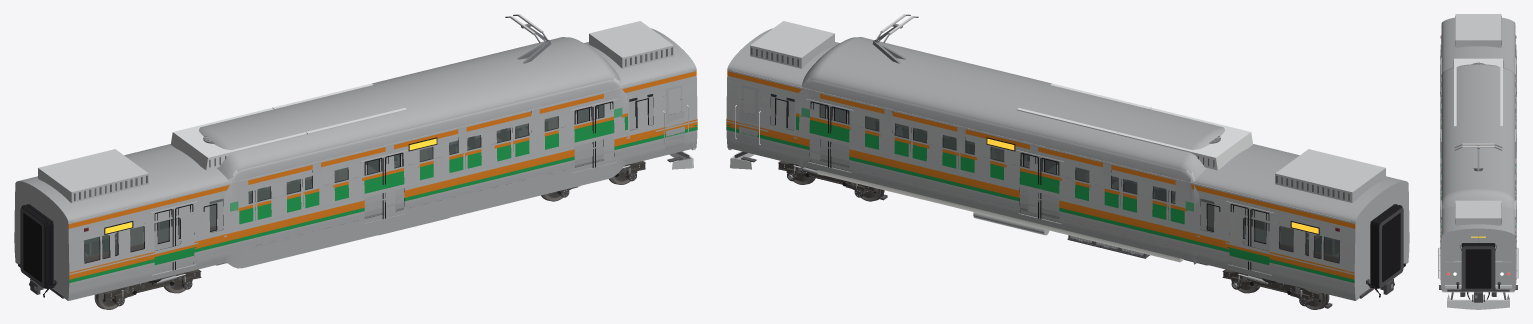
3 renders of one model, left to right at view 1: azimuth 30°, elevation 25°; view 2: azimuth 150°, elevation 25°; view 3: azimuth 270°, elevation 25°, orthographic. The views are drawn at different scales.
Visible parts, largest first — view 1: 211_green, 211_cab, 211_mid, 211_mid_panto, 211_cab_fine, 211_cab_door0_R_a, 211_cab_door1_R_a, 211_cab_door2_R_a, 211_mid_door1_R_a; view 2: 211_green, 211_cab, 211_mid, 211_mid_panto, 211_cab_fine, 211_cab_door0_L_a, 211_cab_door1_L_a, 211_cab_door2_L_a, 211_mid_door2_L_a, 211_mid_door1_L_a, 211_cab_door0_L_b; view 3: 211_green, 211_mid, 211_cab, 211_mid_panto, 211_mid_fine, 211_cab_fine.
Part boxes in pixels (<box>): 211_green: <box>15,21,697,298</box>; 211_cab: <box>14,42,695,306</box>; 211_mid: <box>14,28,697,300</box>; 211_mid_panto: <box>135,14,551,265</box>; 211_cab_fine: <box>18,105,688,304</box>; 211_cab_door0_R_a: <box>574,106,595,167</box>; 211_cab_door1_R_a: <box>364,157,385,218</box>; 211_cab_door2_R_a: <box>154,209,175,269</box>; 211_mid_door1_R_a: <box>364,158,383,218</box>; 211_green: <box>726,21,1408,297</box>; 211_cab: <box>728,42,1409,308</box>; 211_mid: <box>726,28,1409,300</box>; 211_mid_panto: <box>788,14,1252,265</box>; 211_cab_fine: <box>735,105,1405,304</box>; 211_cab_door0_L_a: <box>828,106,849,171</box>; 211_cab_door1_L_a: <box>1038,157,1059,222</box>; 211_cab_door2_L_a: <box>1248,209,1269,269</box>; 211_mid_door2_L_a: <box>830,107,849,171</box>; 211_mid_door1_L_a: <box>1040,158,1059,218</box>; 211_cab_door0_L_b: <box>809,101,828,167</box>; 211_green: <box>1440,14,1516,289</box>; 211_mid: <box>1440,18,1516,292</box>; 211_cab: <box>1440,17,1516,309</box>; 211_mid_panto: <box>1454,58,1502,171</box>; 211_mid_fine: <box>1457,243,1499,299</box>; 211_cab_fine: <box>1438,247,1518,289</box>.
Size of the model in its own units: 20.11 by 5.17 by 3.1.
